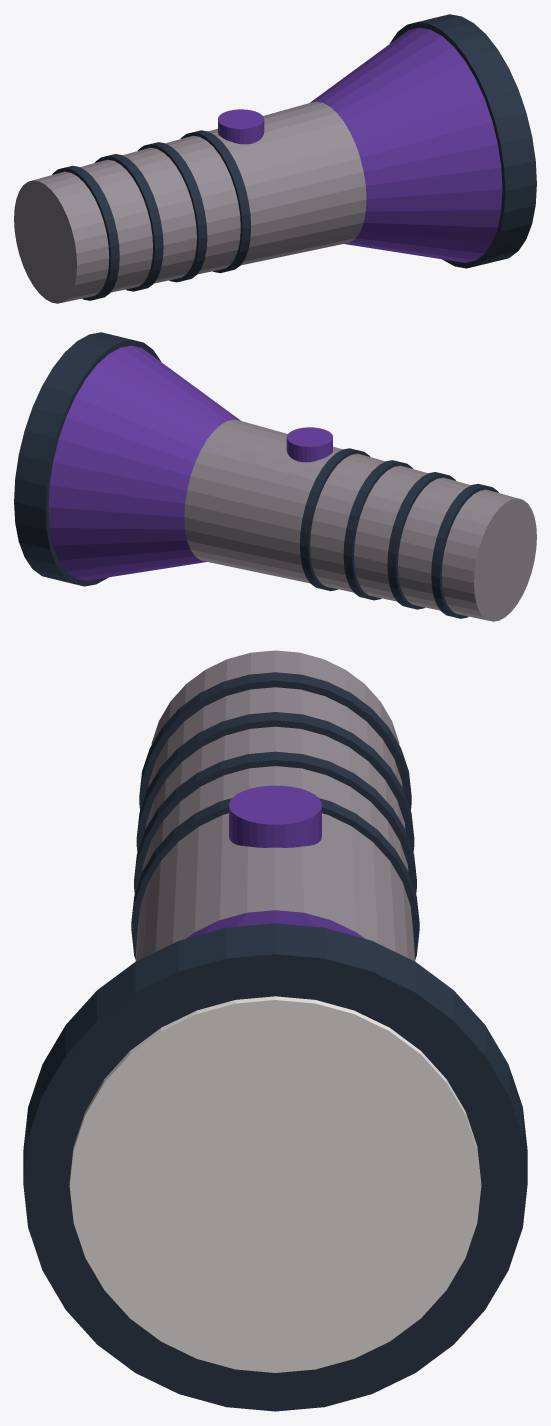
The model's file is flashlight.glb.
3 views of the same model, one above another, from view 1: azimuth 30°, elevation 25°; view 2: azimuth 150°, elevation 25°; view 3: azimuth 270°, elevation 25° (orthographic). The views are drawn at different scales.
Parts seen in each view (by area): view 1: grip, head, bezel, grip ring 3, grip ring 2, grip ring 1, grip ring 0, switch; view 2: grip, head, bezel, grip ring 3, grip ring 2, grip ring 1, grip ring 0, switch; view 3: lens, bezel, grip, switch, grip ring 0, grip ring 1, grip ring 2, grip ring 3, head.
Boxes of the visible parts, x1,y1,x2,y2 form: grip: [14, 101, 366, 303]; head: [310, 27, 502, 262]; bezel: [389, 14, 536, 268]; grip ring 3: [180, 130, 250, 273]; grip ring 2: [138, 142, 207, 282]; grip ring 1: [95, 154, 163, 291]; grip ring 0: [52, 165, 119, 300]; switch: [218, 109, 264, 144]; grip: [184, 419, 536, 621]; head: [48, 345, 240, 580]; bezel: [14, 332, 161, 586]; grip ring 3: [300, 448, 370, 591]; grip ring 2: [343, 460, 412, 600]; grip ring 1: [387, 472, 455, 609]; grip ring 0: [431, 483, 498, 618]; switch: [286, 427, 332, 462]; lens: [69, 996, 481, 1372]; bezel: [23, 923, 527, 1411]; grip: [135, 650, 415, 961]; switch: [229, 785, 321, 847]; grip ring 0: [139, 672, 411, 810]; grip ring 1: [136, 712, 414, 852]; grip ring 2: [134, 751, 416, 894]; grip ring 3: [131, 798, 419, 959]; head: [186, 910, 364, 938].
Bounding box in the file's own units: 1.5 × 0.76 × 0.76.
